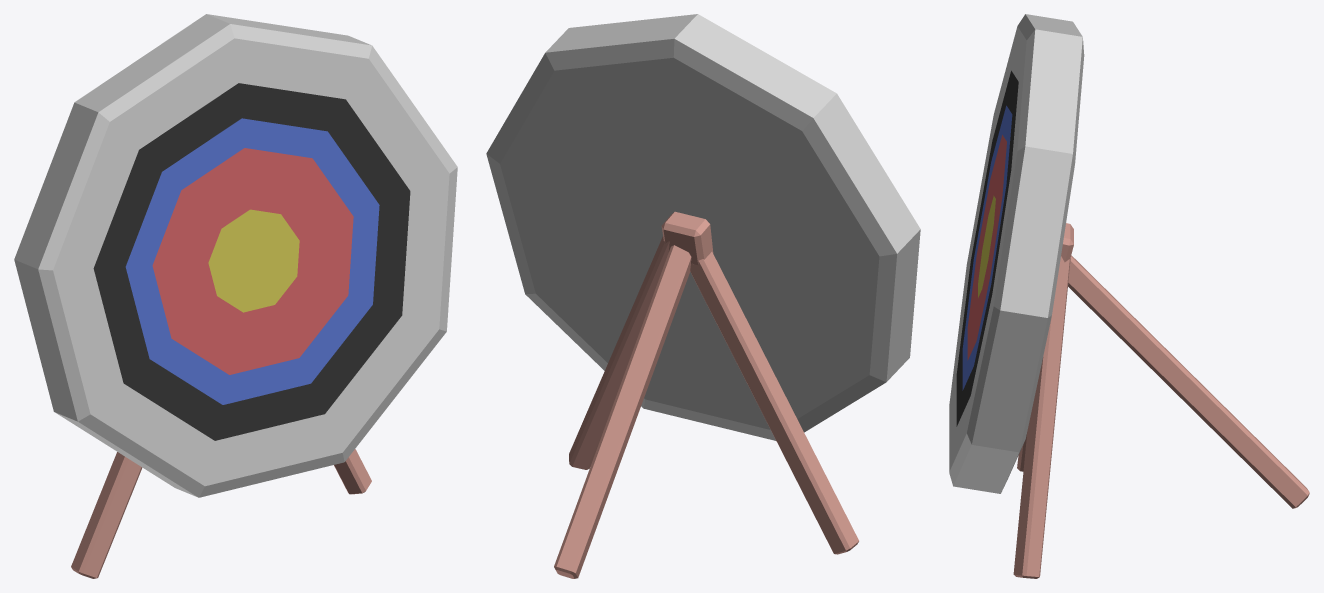
Rendered from SM_ArcheryTarget.fbx.
The picture shows the model from 3 angles, left to right: view 1: azimuth 30°, elevation 25°; view 2: azimuth 150°, elevation 25°; view 3: azimuth 270°, elevation 25°; orthographic projection. The views are drawn at different scales.
Visible parts, largest first — view 1: SM_ArcheryTarget; view 2: SM_ArcheryTarget; view 3: SM_ArcheryTarget.
Part boxes in pixels (x1,y1,x2,y2): SM_ArcheryTarget: (14, 14, 457, 578); SM_ArcheryTarget: (486, 14, 920, 578); SM_ArcheryTarget: (949, 14, 1309, 578).
Size of the model in its own units: 197 by 232 by 148.
